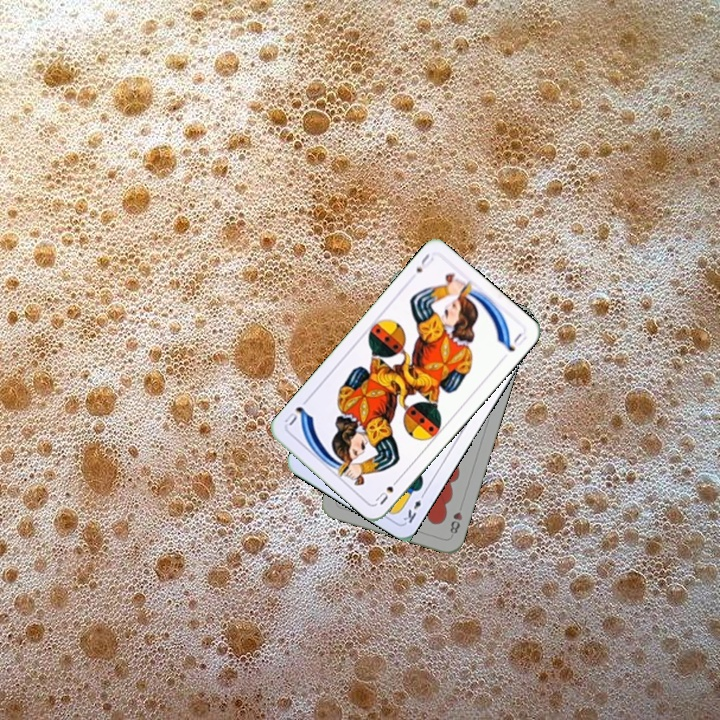EK: (399, 488, 428, 526)
H8: (446, 500, 465, 537)
SU: (371, 473, 403, 507), (412, 249, 436, 275)
